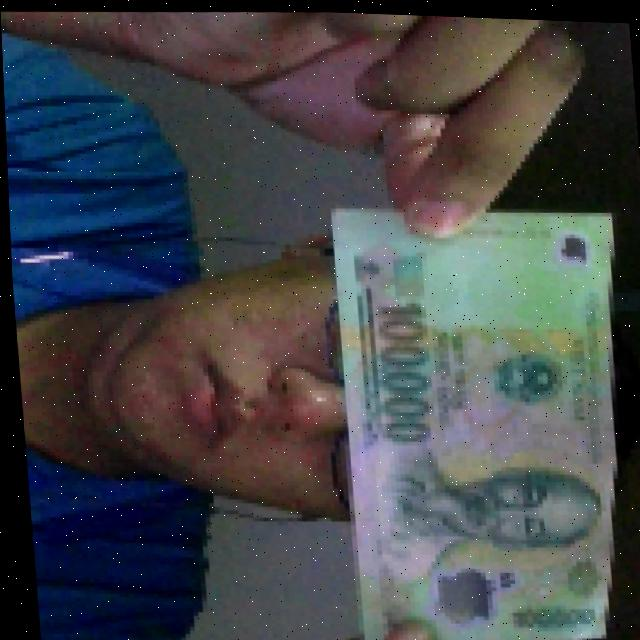100 000 VND: (317, 188, 640, 640)
